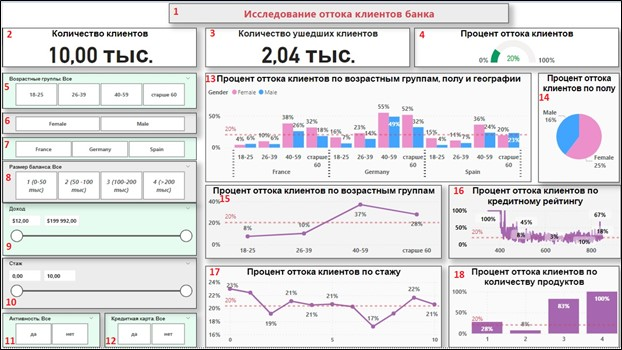

The dashboard page shown, as its layout file describes it:
{"tool":"powerbi","page":{"name":"Исследование оттока клиентов банка","canvas":[1280,720],"ordinal":0},"visuals":[{"type":"card","title":"Количество клиентов","fields":{"Values":["churn.Количество клиентов"]},"box":[0,59.1,401.6,80.8],"z":0},{"type":"card","title":"Количество ушедших клиентов","fields":{"Values":["Таблица мер.Количество ушедших клиентов"]},"box":[419.7,59.1,423.3,80.8],"z":1000},{"type":"gauge","fields":{"Y":["Таблица мер.Процент оттока клиентов"]},"box":[852.7,59.1,423.3,80.8],"z":2000},{"type":"slicer","fields":{"Values":["churn.Gender"]},"box":[0,234,401.6,43.4],"z":3000},{"type":"slicer","fields":{"Values":["churn.HasCrCard"]},"box":[211.1,648.8,190.6,71.2],"z":4000},{"type":"slicer","fields":{"Values":["churn.IsActiveMember"]},"box":[0,648.8,201.4,71.2],"z":5000},{"type":"slicer","fields":{"Values":["churn.Geography"]},"box":[0,285.8,401.6,47],"z":6000},{"type":"clusteredColumnChart","title":"Процент оттока клиентов по возрастным группам, полу и географии","fields":{"Category":["churn.Geography","churn.Возрастные группы"],"Series":["churn.Gender"],"Y":["Таблица мер.Процент оттока клиентов"]},"box":[419.7,152,674.2,225.5],"z":7000},{"type":"slicer","fields":{"Values":["churn.Возрастные группы"]},"box":[0,152,401.6,73.6],"z":8000},{"type":"slicer","fields":{"Values":["churn.Tenure"]},"box":[0,535.5,401.6,104.9],"z":9000},{"type":"lineChart","title":"Процент оттока клиентов по возрастным группам","fields":{"Y":["Таблица мер.Процент оттока клиентов"],"Category":["churn.Возрастные группы"]},"box":[419.9,384.2,488.5,152.3],"z":10000},{"type":"lineChart","title":"Процент оттока клиентов по кредитному рейтингу","fields":{"Y":["Таблица мер.Процент оттока клиентов"],"Category":["churn.CreditScore"]},"box":[923.5,384.2,356.8,152.3],"z":11000},{"type":"lineChart","title":"Процент оттока клиентов по стажу","fields":{"Y":["Таблица мер.Процент оттока клиентов"],"Category":["churn.Tenure"]},"box":[419.9,551.6,488.5,168.8],"z":12000},{"type":"columnChart","title":"Процент оттока клиентов по количеству продуктов","fields":{"Category":["churn.NumOfProducts"],"Y":["Таблица мер.Процент оттока клиентов"]},"box":[923.5,551.6,352.7,168.8],"z":13000},{"type":"slicer","fields":{"Values":["churn.Категории по размеру баланса"]},"box":[0,335.3,401.6,85.6],"z":15000},{"type":"slicer","fields":{"Values":["churn.EstimatedSalary"]},"box":[0,420.9,401.6,108.5],"z":16000},{"type":"pieChart","title":"Процент оттока клиентов по полу","fields":{"Y":["Таблица мер.Процент оттока клиентов"],"Category":["churn.Gender"]},"box":[1108.3,152,167.6,226.7],"z":17000},{"type":"textbox","box":[344.9,8.4,703.1,41],"z":18000}]}

Visuals, with their boxes in screenshot pixels (x1, y1, x2, y2), scaled from the page's 1280x720 canvas onto the 622x350 screenshot:
"Количество клиентов" card: x1=0 y1=29 x2=195 y2=68
"Количество ушедших клиентов" card: x1=204 y1=29 x2=410 y2=68
gauge - Таблица мер.Процент оттока клиентов: x1=414 y1=29 x2=620 y2=68
slicer - churn.Gender: x1=0 y1=114 x2=195 y2=135
slicer - churn.HasCrCard: x1=103 y1=315 x2=195 y2=349
slicer - churn.IsActiveMember: x1=0 y1=315 x2=98 y2=349
slicer - churn.Geography: x1=0 y1=139 x2=195 y2=162
"Процент оттока клиентов по возрастным группам, полу и географии" clusteredColumnChart: x1=204 y1=74 x2=532 y2=184
slicer - churn.Возрастные группы: x1=0 y1=74 x2=195 y2=110
slicer - churn.Tenure: x1=0 y1=260 x2=195 y2=311
"Процент оттока клиентов по возрастным группам" lineChart: x1=204 y1=187 x2=441 y2=261
"Процент оттока клиентов по кредитному рейтингу" lineChart: x1=449 y1=187 x2=621 y2=261
"Процент оттока клиентов по стажу" lineChart: x1=204 y1=268 x2=441 y2=349
"Процент оттока клиентов по количеству продуктов" columnChart: x1=449 y1=268 x2=620 y2=349
slicer - churn.Категории по размеру баланса: x1=0 y1=163 x2=195 y2=205
slicer - churn.EstimatedSalary: x1=0 y1=205 x2=195 y2=257
"Процент оттока клиентов по полу" pieChart: x1=539 y1=74 x2=620 y2=184
textbox: x1=168 y1=4 x2=509 y2=24
